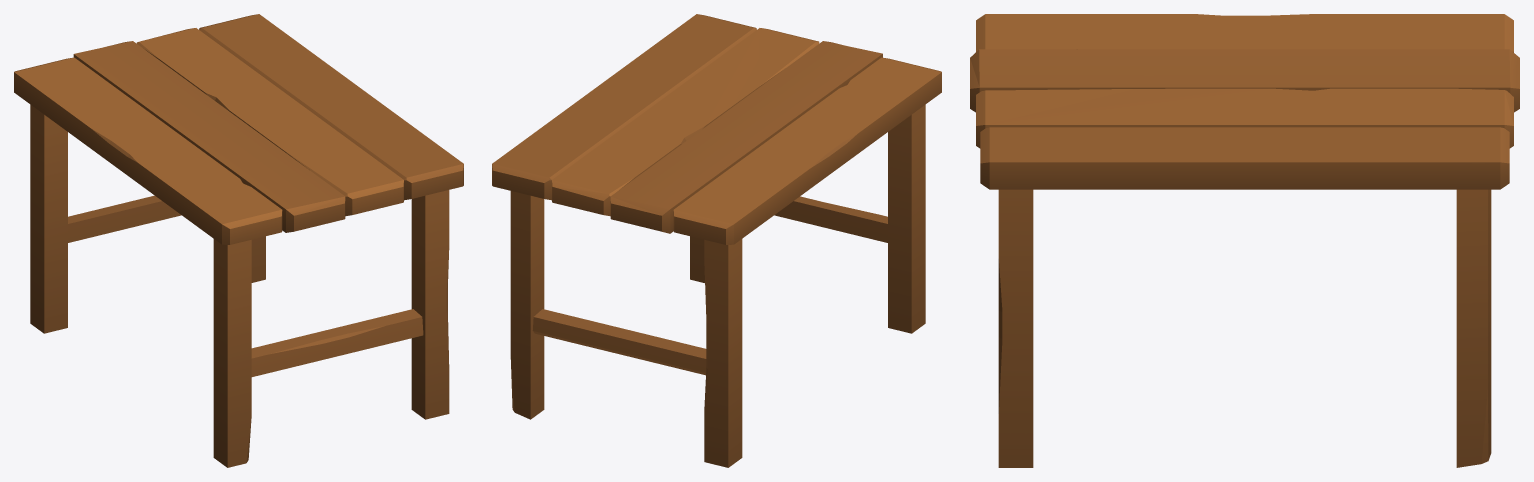
File: Prop_Wooden_Table_02.obj
3 views of the same model, side by side, from view 1: azimuth 30°, elevation 25°; view 2: azimuth 150°, elevation 25°; view 3: azimuth 270°, elevation 25° (orthographic). The views are drawn at different scales.
Visible parts, largest first — view 1: Prop_Wooden_Table_02; view 2: Prop_Wooden_Table_02; view 3: Prop_Wooden_Table_02.
Part boxes in pixels (box(x1,y1,x2,y2)): Prop_Wooden_Table_02: box(14, 14, 463, 467); Prop_Wooden_Table_02: box(492, 14, 941, 467); Prop_Wooden_Table_02: box(970, 14, 1519, 467).
Bounding box in the file's own units: 0.762 × 0.7532 × 1.19.
1 material, 1 textured.
